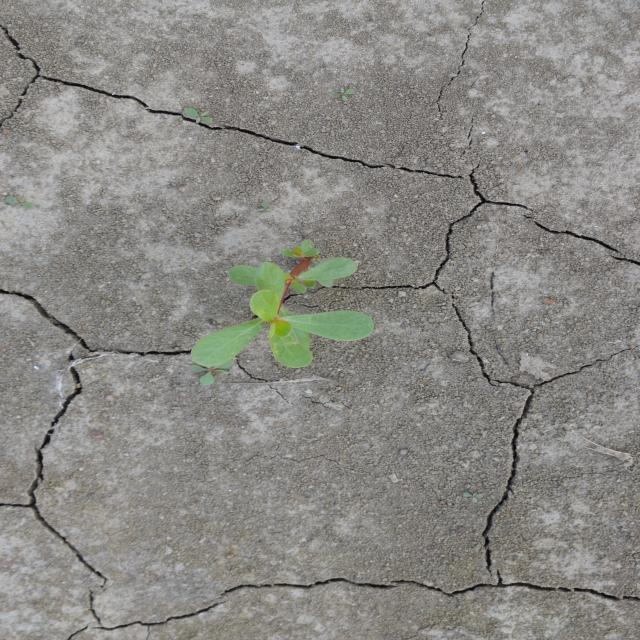Purslane: (188, 237, 377, 372)
